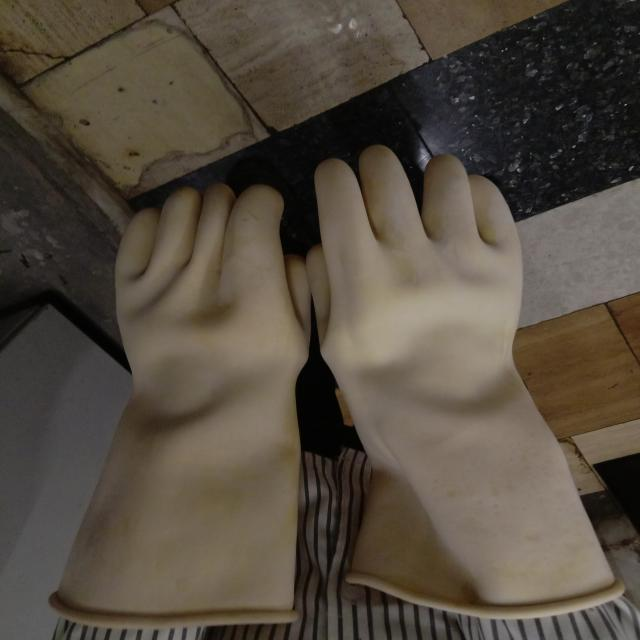gloved_hand: (294, 142, 624, 622), (44, 178, 319, 632)
